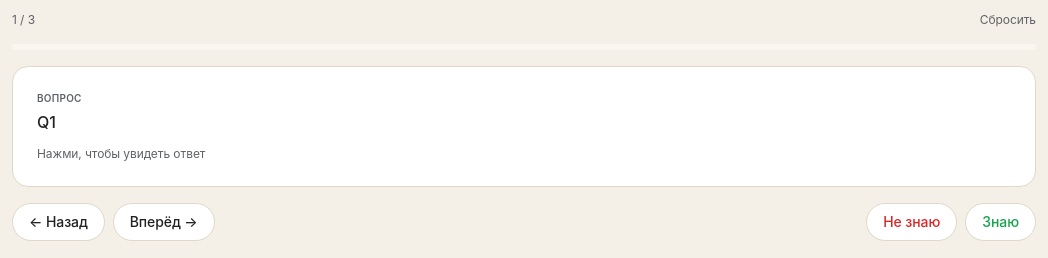
Test: FlashcardDeck › wraps around at the end (last → first on next, first → last on prev)
Click the button with test id "flashcard-next". click: point(164, 222)
box: [113, 203, 215, 241]
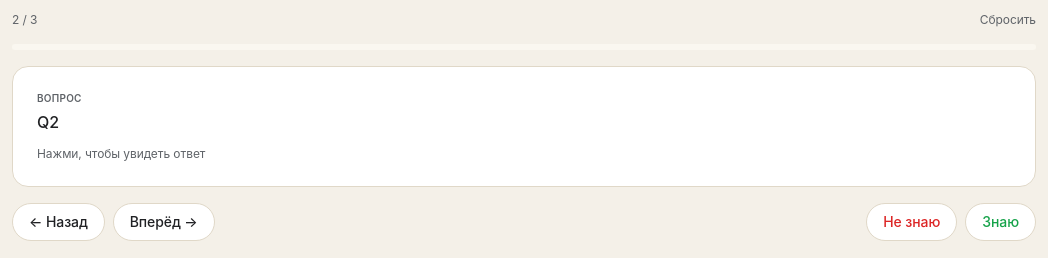
Click the button with test id "flashcard-next". click: point(164, 222)
box: [113, 203, 215, 241]
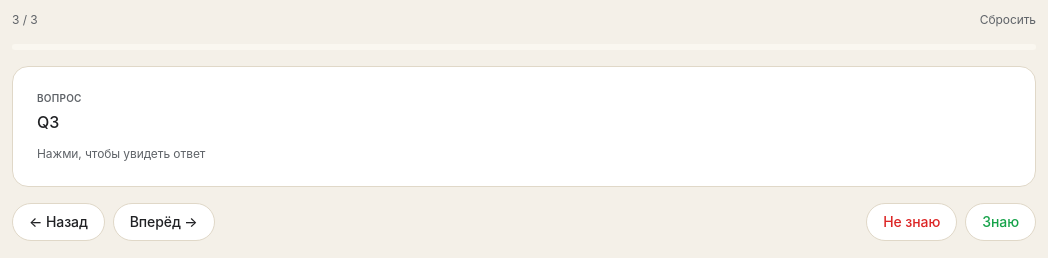
Now the text "Q3" is shown, box [37, 112, 59, 132]
Click the button with test id "flashcard-next". click: point(164, 222)
box: [113, 203, 215, 241]
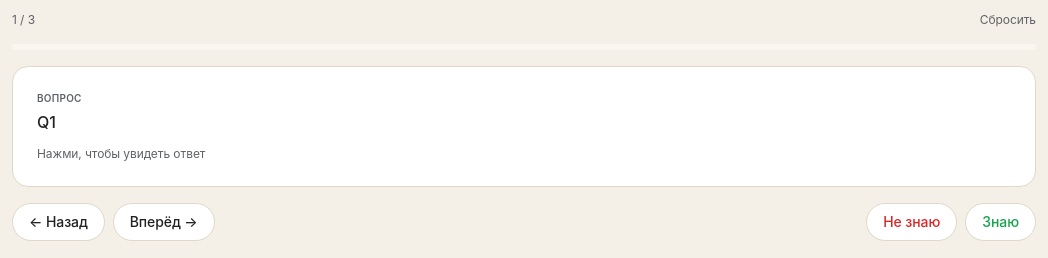
Now the text "Q1" is shown, box [37, 112, 56, 132]
Click the button with test id "flashcard-prev". click: point(58, 222)
box: [12, 203, 105, 241]
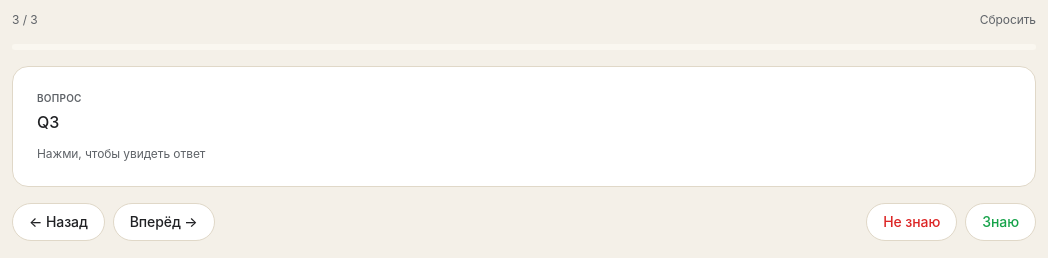
Now the text "Q3" is shown, box [37, 112, 59, 132]
